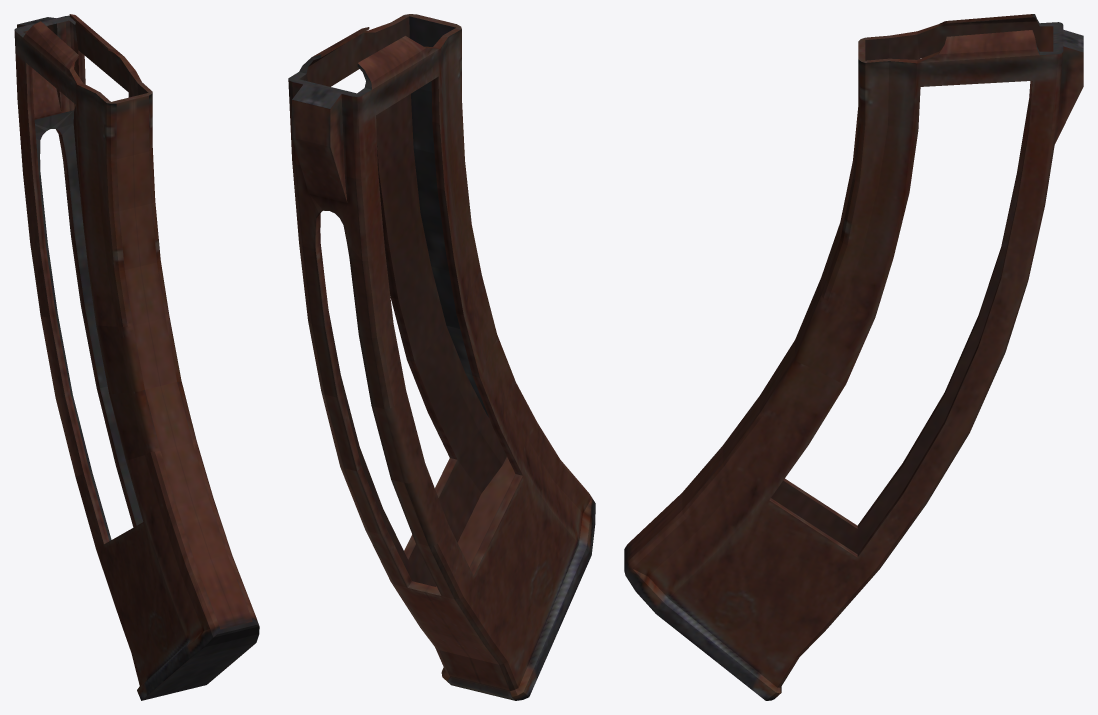
The model's file is mag.obj.
3 views of the same model, side by side, from view 1: azimuth 30°, elevation 25°; view 2: azimuth 150°, elevation 25°; view 3: azimuth 270°, elevation 25° (orthographic). The views are drawn at different scales.
Visible parts, largest first — view 1: wpn34_ak; view 2: wpn34_ak; view 3: wpn34_ak.
Part boxes in pixels (bbox=[...]): wpn34_ak: bbox=[14, 14, 259, 700]; wpn34_ak: bbox=[288, 14, 595, 700]; wpn34_ak: bbox=[624, 14, 1083, 700].
Size of the model in its own units: 0.0283 by 0.2378 by 0.1493.
Materials: 1 (1 with a texture image).
